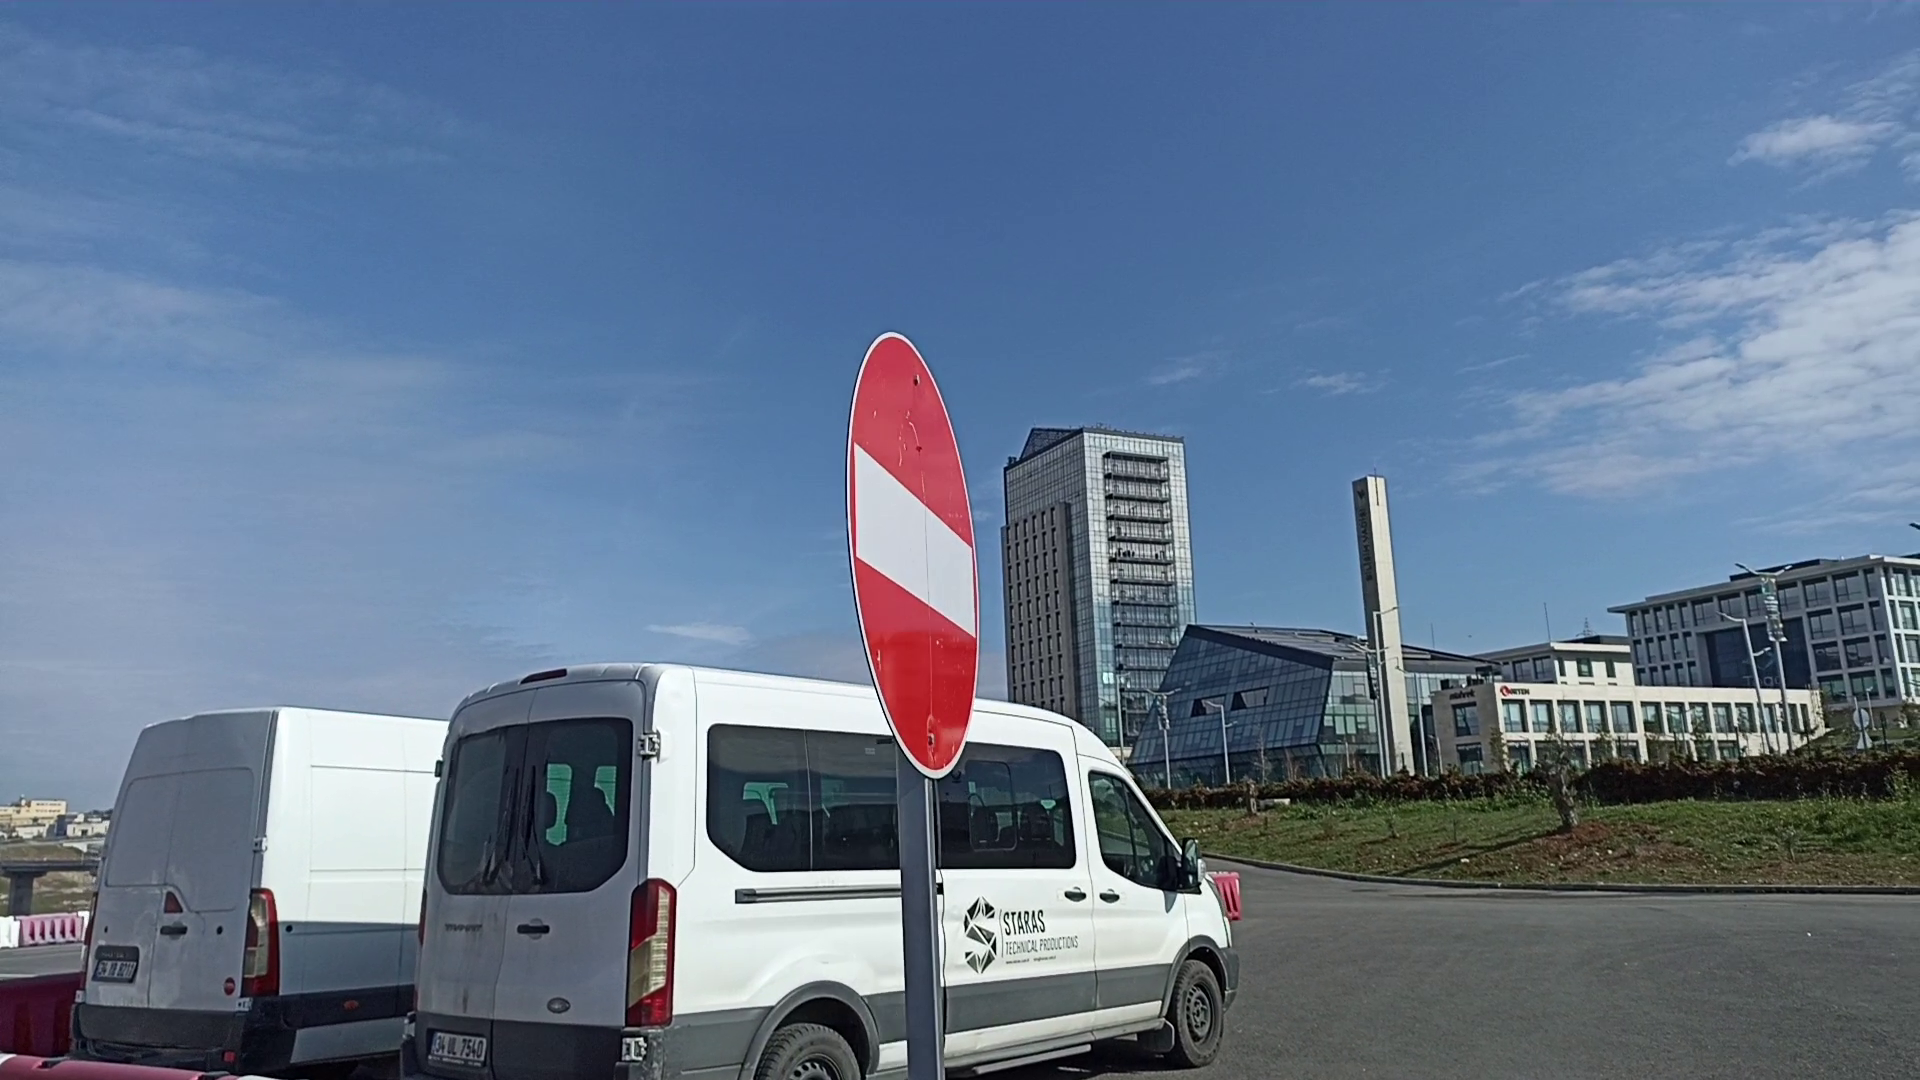noentryway: (839, 328, 986, 783)
